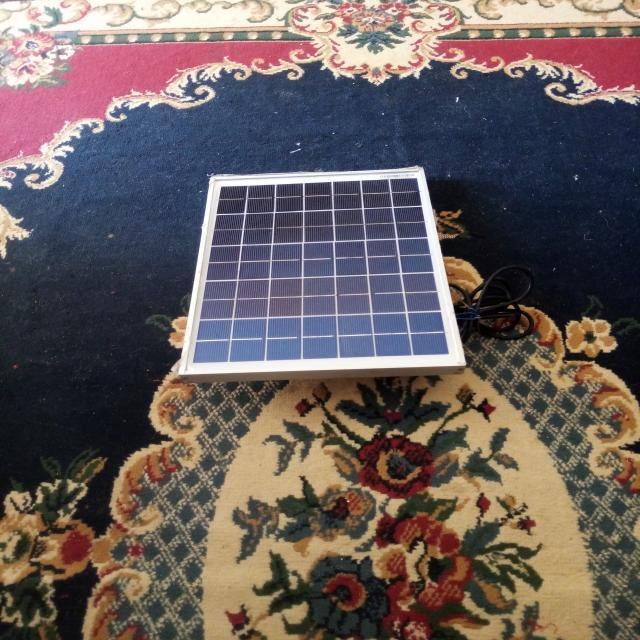Normal Solar Panel: (179, 168, 466, 376)
